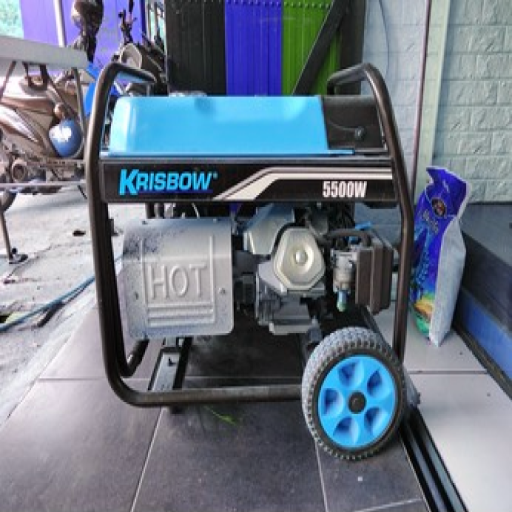portable_generator: (83, 62, 414, 404)
